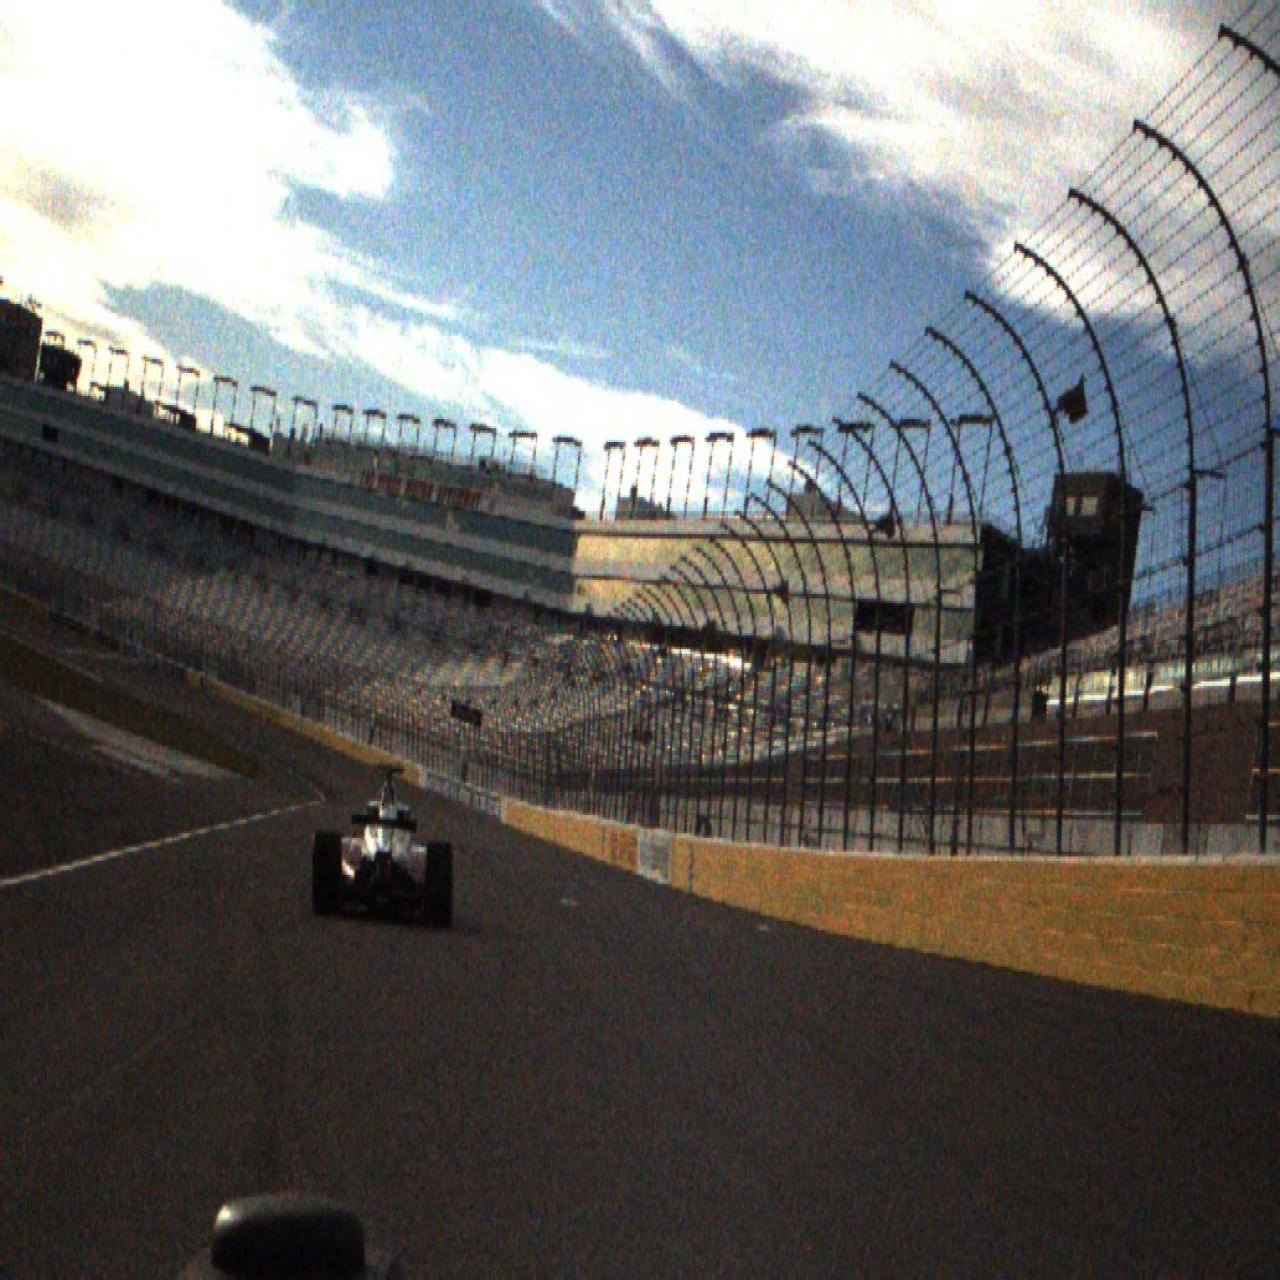AV: (312, 763, 454, 931)
Wheel: (313, 830, 342, 918), (427, 841, 454, 930)
